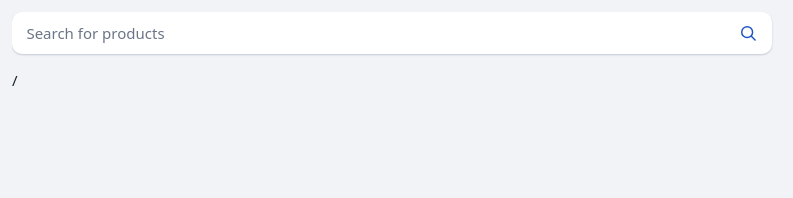
SearchBox suggestions › sends one request for a word typed without pauses
Type "phone" into the dropdown named "Search products" at coordinates (368, 33), box 12,12 -> 724,54
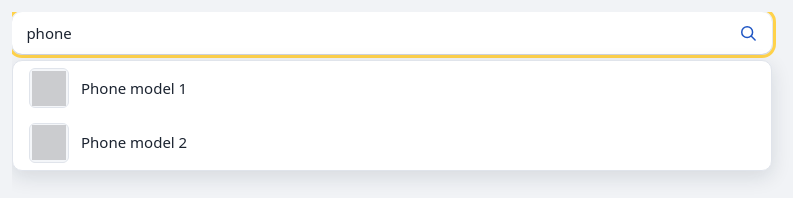
Check: the list named "Suggested products" is shown, box 29,68 -> 187,163
